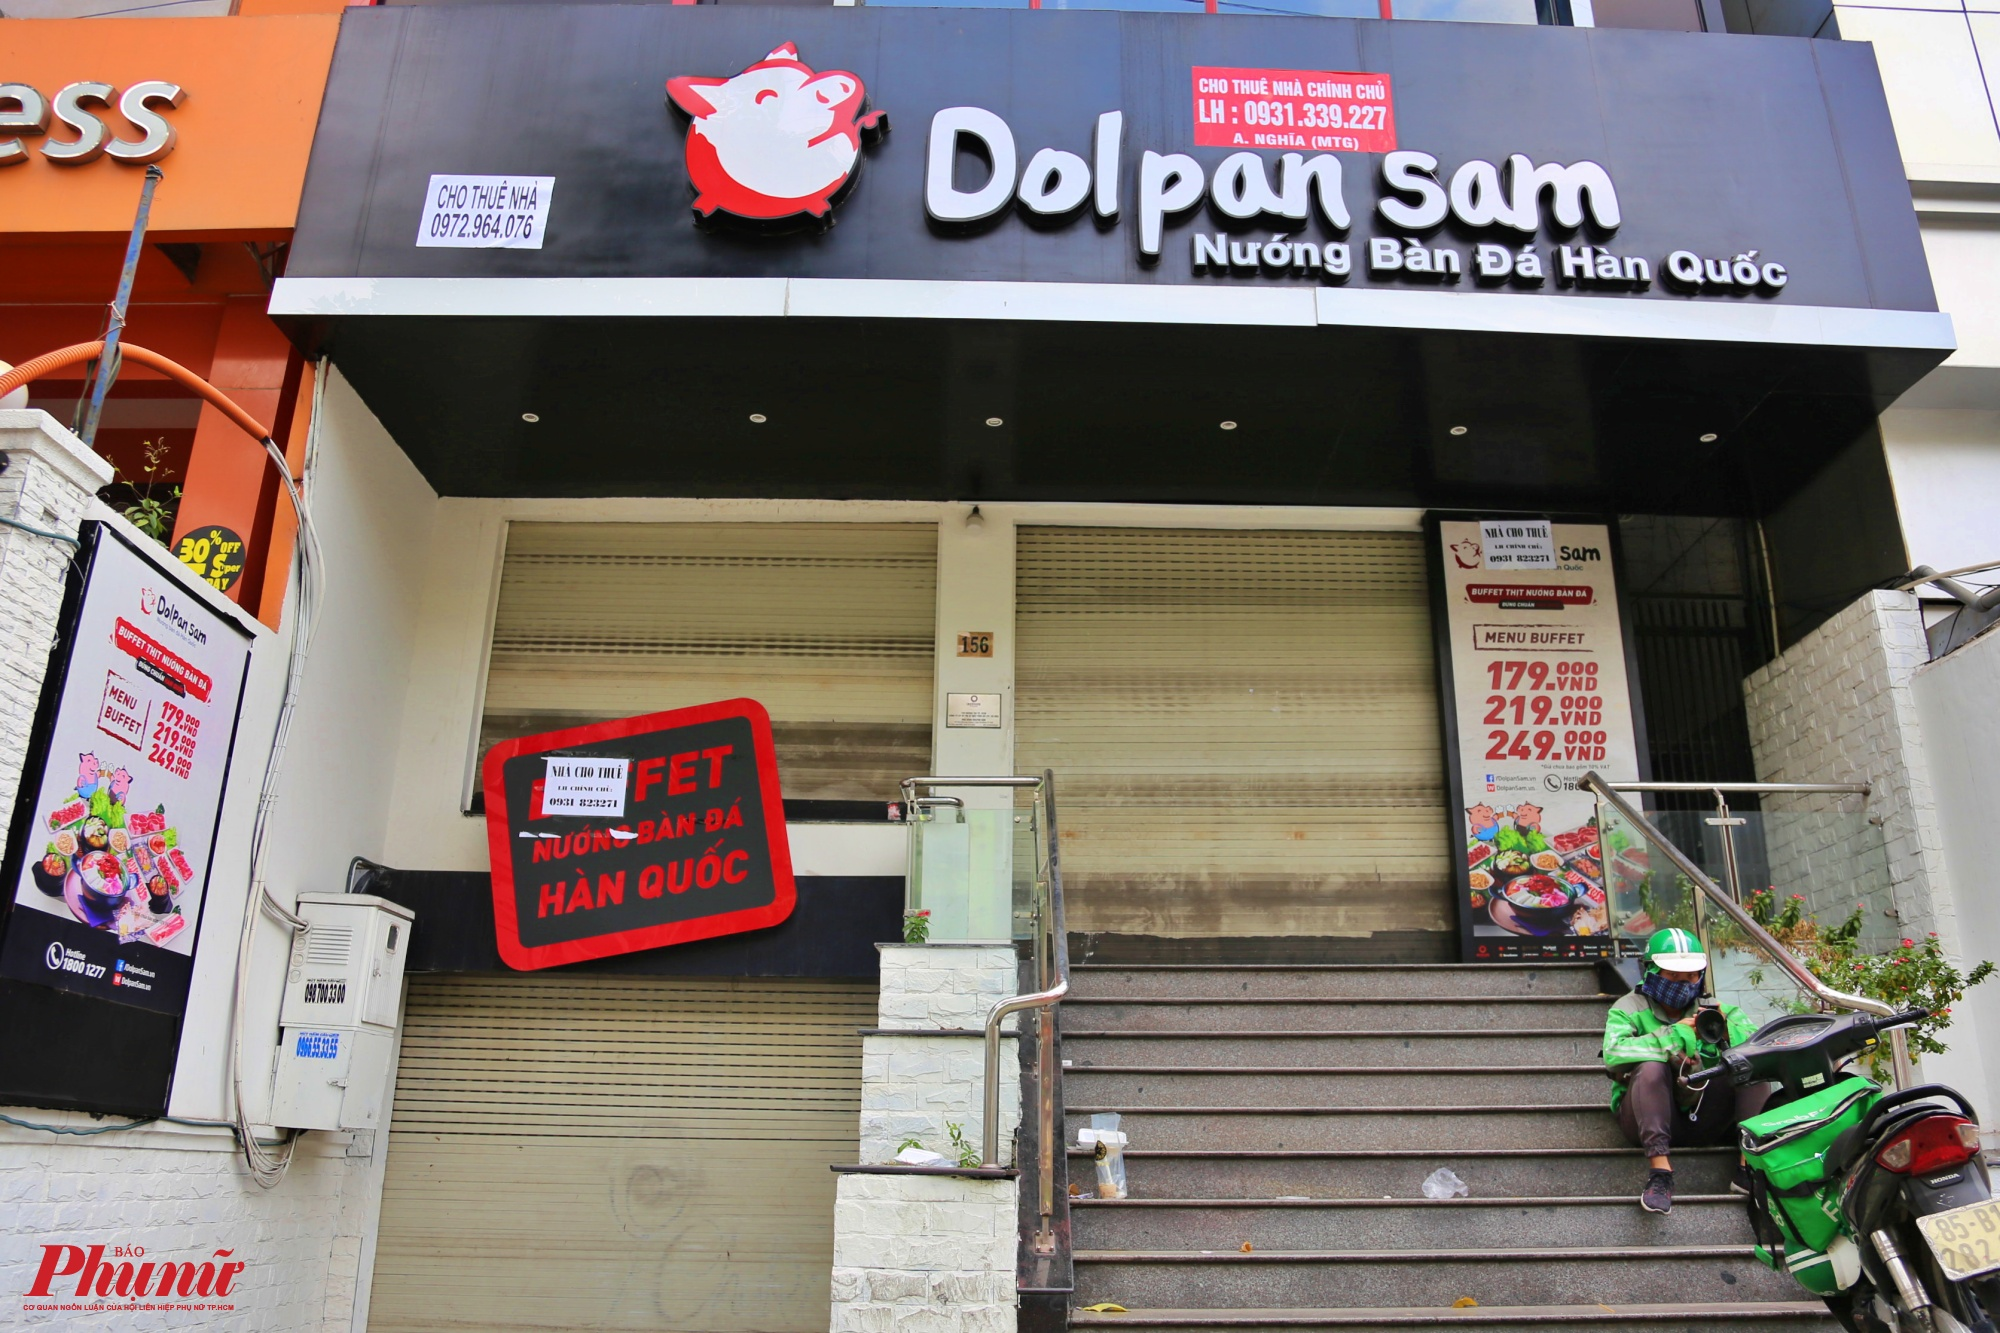banner: (321, 1, 1921, 339), (19, 513, 254, 980), (1438, 513, 1657, 942), (488, 725, 787, 940)
